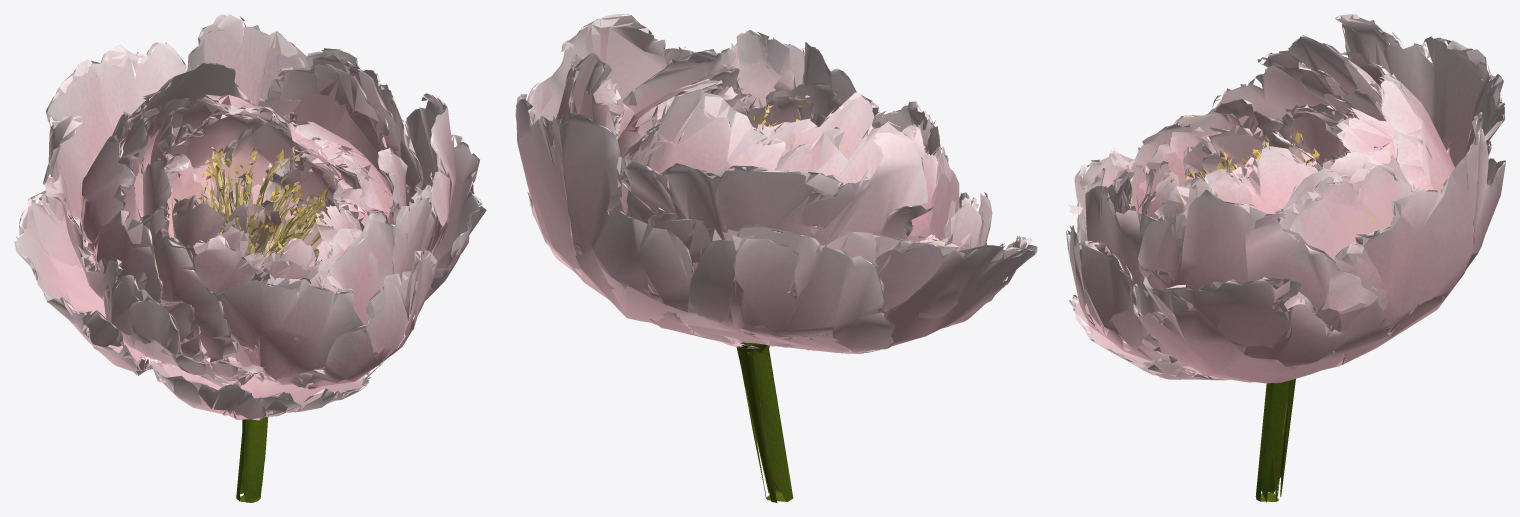
The model's file is peony_blush.glb.
3 renders of one model, left to right at view 1: azimuth 30°, elevation 25°; view 2: azimuth 150°, elevation 25°; view 3: azimuth 270°, elevation 25°, orthographic. The views are drawn at different scales.
Parts seen in each view (by area): view 1: peony_blush; view 2: peony_blush; view 3: peony_blush.
Part boxes in pixels (x1,y1,x2,y2): peony_blush: (14,14,486,502); peony_blush: (515,14,1037,502); peony_blush: (1066,14,1505,502).
Bounding box in the file's own units: 1 × 0.8758 × 0.8242.
1 material, 1 textured.
